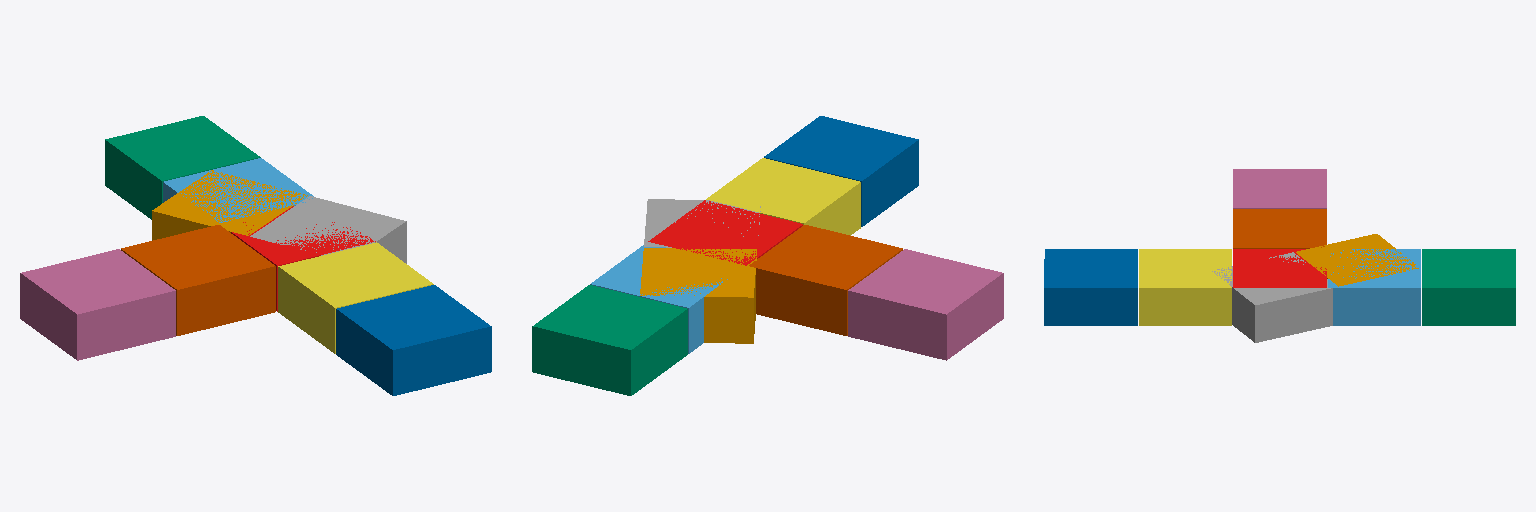
robot.urdf — Model_Models/testPiece.urdf90:
<?xml version='1.0' encoding='UTF-8'?>
<robot name="Model_Models/testPiece.urdf90">
  <link name="base_link">
    <inertial>
      <origin xyz="0.0 0.0 0.0" rpy="0.0 -0.0 0.0"/>
      <mass value="1.0"/>
      <inertia ixx="1.0" ixy="0.0" ixz="0.0" iyy="1.0" iyz="0.0" izz="1.0"/>
    </inertial>
    <visual>
      <geometry>
        <box size="0.67 0.67 0.3 "/>
      </geometry>
      <material name="red"/>
      <origin xyz="0.0 0.0 0.0" rpy="0.0 -0.0 0.0"/>
    </visual>
    <collision>
      <geometry>
        <box size="0.67 0.67 0.3 "/>
      </geometry>
      <origin xyz="0.0 0.0 0.0" rpy="0.0 0.0 0.0"/>
    </collision>
  </link>
  <link name="set0_arm1">
    <inertial>
      <origin xyz="0.0 0.34 0.0" rpy="0.0 0.0 0.0"/>
      <mass value="1.0"/>
      <inertia ixx="0.0" ixy="0.0" ixz="0.0" iyy="0.0" iyz="0.0" izz="0.0"/>
    </inertial>
    <visual>
      <geometry>
        <box size="0.67 0.67 0.3 "/>
      </geometry>
      <origin xyz="0.0 0.34 0.0" rpy="0.0 0.0 0.0"/>
    </visual>
    <collision>
      <geometry>
        <box size="0.67 0.67 0.3 "/>
      </geometry>
      <origin xyz="0.0 0.34 0.0" rpy="0.0 0.0 0.0"/>
    </collision>
  </link>
  <link name="set0_arm2">
    <inertial>
      <origin xyz="0.0 0.34 0.0" rpy="0.0 0.0 0.0"/>
      <mass value="1.0"/>
      <inertia ixx="0.0" ixy="0.0" ixz="0.0" iyy="0.0" iyz="0.0" izz="0.0"/>
    </inertial>
    <visual>
      <geometry>
        <box size="0.67 0.67 0.3 "/>
      </geometry>
      <origin xyz="0.0 0.34 0.0" rpy="0.0 0.0 0.0"/>
    </visual>
    <collision>
      <geometry>
        <box size="0.67 0.67 0.3 "/>
      </geometry>
      <origin xyz="0.0 0.34 0.0" rpy="0.0 0.0 0.0"/>
    </collision>
  </link>
  <link name="set1_arm1">
    <inertial>
      <origin xyz="0.0 0.34 0.0" rpy="0.0 0.0 0.0"/>
      <mass value="1.0"/>
      <inertia ixx="0.0" ixy="0.0" ixz="0.0" iyy="0.0" iyz="0.0" izz="0.0"/>
    </inertial>
    <visual>
      <geometry>
        <box size="0.67 0.67 0.3 "/>
      </geometry>
      <origin xyz="0.0 0.34 0.0" rpy="0.0 0.0 0.0"/>
    </visual>
    <collision>
      <geometry>
        <box size="0.67 0.67 0.3 "/>
      </geometry>
      <origin xyz="0.0 0.34 0.0" rpy="0.0 0.0 0.0"/>
    </collision>
  </link>
  <link name="set1_arm2">
    <inertial>
      <origin xyz="0.0 0.34 0.0" rpy="0.0 0.0 0.0"/>
      <mass value="1.0"/>
      <inertia ixx="0.0" ixy="0.0" ixz="0.0" iyy="0.0" iyz="0.0" izz="0.0"/>
    </inertial>
    <visual>
      <geometry>
        <box size="0.67 0.67 0.3 "/>
      </geometry>
      <origin xyz="0.0 0.34 0.0" rpy="0.0 0.0 0.0"/>
    </visual>
    <collision>
      <geometry>
        <box size="0.67 0.67 0.3 "/>
      </geometry>
      <origin xyz="0.0 0.34 0.0" rpy="0.0 0.0 0.0"/>
    </collision>
  </link>
  <link name="set3_arm1">
    <inertial>
      <origin xyz="0.0 0.34 0.0" rpy="0.0 0.0 0.0"/>
      <mass value="1.0"/>
      <inertia ixx="0.0" ixy="0.0" ixz="0.0" iyy="0.0" iyz="0.0" izz="0.0"/>
    </inertial>
    <visual>
      <geometry>
        <box size="0.67 0.67 0.3 "/>
      </geometry>
      <origin xyz="0.0 0.34 0.0" rpy="0.0 0.0 0.0"/>
    </visual>
    <collision>
      <geometry>
        <box size="0.67 0.67 0.3 "/>
      </geometry>
      <origin xyz="0.0 0.34 0.0" rpy="0.0 0.0 0.0"/>
    </collision>
  </link>
  <link name="set3_arm2">
    <inertial>
      <origin xyz="0.0 0.34 0.0" rpy="0.0 0.0 0.0"/>
      <mass value="1.0"/>
      <inertia ixx="0.0" ixy="0.0" ixz="0.0" iyy="0.0" iyz="0.0" izz="0.0"/>
    </inertial>
    <visual>
      <geometry>
        <box size="0.67 0.67 0.3 "/>
      </geometry>
      <origin xyz="0.0 0.34 0.0" rpy="0.0 0.0 0.0"/>
    </visual>
    <collision>
      <geometry>
        <box size="0.67 0.67 0.3 "/>
      </geometry>
      <origin xyz="0.0 0.34 0.0" rpy="0.0 0.0 0.0"/>
    </collision>
  </link>
  <link name="arm_Permutation_90_arm1">
    <inertial>
      <origin xyz="0.0 0.34 0.0" rpy="0.0 0.0 0.0"/>
      <mass value="1.0"/>
      <inertia ixx="0.0" ixy="0.0" ixz="0.0" iyy="0.0" iyz="0.0" izz="0.0"/>
    </inertial>
    <visual>
      <geometry>
        <box size="0.67 0.67 0.3 "/>
      </geometry>
      <origin xyz="0.0 0.34 0.0" rpy="0.0 0.0 0.0"/>
    </visual>
    <collision>
      <geometry>
        <box size="0.67 0.67 0.3 "/>
      </geometry>
      <origin xyz="0.0 0.34 0.0" rpy="0.0 0.0 0.0"/>
    </collision>
  </link>
  <link name="arm_Permutation_90_arm2">
    <inertial>
      <origin xyz="0.0 0.34 0.0" rpy="0.0 0.0 0.0"/>
      <mass value="1.0"/>
      <inertia ixx="0.0" ixy="0.0" ixz="0.0" iyy="0.0" iyz="0.0" izz="0.0"/>
    </inertial>
    <visual>
      <geometry>
        <box size="0.67 0.67 0.3 "/>
      </geometry>
      <origin xyz="0.0 0.34 0.0" rpy="0.0 0.0 0.0"/>
    </visual>
    <collision>
      <geometry>
        <box size="0.67 0.67 0.3 "/>
      </geometry>
      <origin xyz="0.0 0.34 0.0" rpy="0.0 0.0 0.0"/>
    </collision>
  </link>
  <joint name="set0_jointBase" type="fixed">
    <limit effort="1.57" velocity="1.57" lower="-1.57" upper="1.57"/>
    <parent link="base_link"/>
    <child link="set0_arm1"/>
    <axis xyz="1. 0. 0."/>
    <origin xyz="0.0 0.34 0.0" rpy="0.0 0.0 0.0001448603526395746"/>
  </joint>
  <joint name="set0_joint1" type="revolute">
    <limit effort="1.57" velocity="1.57" lower="-1.57" upper="1.57"/>
    <parent link="set0_arm1"/>
    <child link="set0_arm2"/>
    <axis xyz="1. 0. 0."/>
    <origin xyz="0.0 0.68 0.0" rpy="0.0 0.0 0.0"/>
  </joint>
  <joint name="set1_jointBase" type="fixed">
    <limit effort="1.57" velocity="1.57" lower="-1.57" upper="1.57"/>
    <parent link="base_link"/>
    <child link="set1_arm1"/>
    <axis xyz="1. 0. 0."/>
    <origin xyz="0.0 -0.34 0.0" rpy="0.0 0.0 3.141304589488269"/>
  </joint>
  <joint name="set1_joint1" type="revolute">
    <limit effort="1.57" velocity="1.57" lower="-1.57" upper="1.57"/>
    <parent link="set1_arm1"/>
    <child link="set1_arm2"/>
    <axis xyz="1. 0. 0."/>
    <origin xyz="0.0 0.68 0.0" rpy="0.0 0.0 0.0"/>
  </joint>
  <joint name="set3_jointBase" type="fixed">
    <limit effort="1.57" velocity="1.57" lower="-1.57" upper="1.57"/>
    <parent link="base_link"/>
    <child link="set3_arm1"/>
    <axis xyz="1. 0. 0."/>
    <origin xyz="-0.34 0.0 0.0" rpy="0.0 0.0 1.5709761334099326"/>
  </joint>
  <joint name="set3_joint1" type="revolute">
    <limit effort="1.57" velocity="1.57" lower="-1.57" upper="1.57"/>
    <parent link="set3_arm1"/>
    <child link="set3_arm2"/>
    <axis xyz="1. 0. 0."/>
    <origin xyz="0.0 0.68 0.0" rpy="0.0 0.0 0.0"/>
  </joint>
  <joint name="arm_Permutation_90_jointBase" type="fixed">
    <limit effort="1.57" velocity="1.57" lower="-1.57" upper="1.57"/>
    <parent link="base_link"/>
    <child link="arm_Permutation_90_arm1"/>
    <axis xyz="1. 0. 0."/>
    <origin xyz="0.34 -0.34 0.0" rpy="0.0 0.0 0.49"/>
  </joint>
  <joint name="arm_Permutation_90_joint1" type="revolute">
    <limit effort="1.57" velocity="1.57" lower="-1.57" upper="1.57"/>
    <parent link="arm_Permutation_90_arm1"/>
    <child link="arm_Permutation_90_arm2"/>
    <axis xyz="1. 0. 0."/>
    <origin xyz="0.0 0.68 0.0" rpy="0.0 0.0 0.0"/>
  </joint>
  <material name="red">
    <color rgba="0.969 0.129 0.122 1.   "/>
  </material>
</robot>

--- Facts derived from the render (not from the file) ---
3 views of the same robot in one strip: view 1: azimuth 30°, elevation 25°; view 2: azimuth 150°, elevation 25°; view 3: azimuth 270°, elevation 25° (orthographic).
Model Model_Models/testPiece.urdf90 with 9 links and 8 joints (4 revolute, 4 fixed), rooted at base_link, posed all joints at 0.
Visible links, largest first — view 1: set3_arm2, set1_arm2, set3_arm1, set1_arm1, set0_arm2, arm_Permutation_90_arm1, arm_Permutation_90_arm2, set0_arm1, base_link; view 2: set0_arm2, set3_arm2, set3_arm1, set1_arm2, arm_Permutation_90_arm2, set1_arm1, base_link, set0_arm1, arm_Permutation_90_arm1; view 3: set0_arm2, set1_arm2, set1_arm1, set0_arm1, arm_Permutation_90_arm1, set3_arm2, set3_arm1, arm_Permutation_90_arm2, base_link.
Link boxes in pixels (x1,y1,x2,y2): set3_arm2: (20,249,175,360); set1_arm2: (336,285,491,395); set3_arm1: (121,225,275,335); set1_arm1: (278,242,433,353); set0_arm2: (105,116,260,219); arm_Permutation_90_arm1: (250,196,406,263); arm_Permutation_90_arm2: (152,170,307,240); set0_arm1: (163,158,313,222); base_link: (231,206,375,311); set0_arm2: (532,285,687,395); set3_arm2: (848,249,1003,360); set3_arm1: (749,225,902,335); set1_arm2: (764,116,918,226); arm_Permutation_90_arm2: (640,248,756,343); set1_arm1: (706,158,860,235); base_link: (648,200,802,265); set0_arm1: (590,245,727,353); arm_Permutation_90_arm1: (644,199,760,247); set0_arm2: (1422,249,1515,325); set1_arm2: (1044,249,1137,325); set1_arm1: (1139,249,1231,325); set0_arm1: (1328,249,1420,325); arm_Permutation_90_arm1: (1212,252,1332,342); set3_arm2: (1233,169,1326,208); set3_arm1: (1233,209,1326,248); arm_Permutation_90_arm2: (1296,234,1418,286); base_link: (1233,249,1326,287).
Bounding box of the posed robot: 2.33 × 3.39 × 0.3 m (x, y, z).
Geometry: primitives only (box / cylinder / sphere), no mesh files.